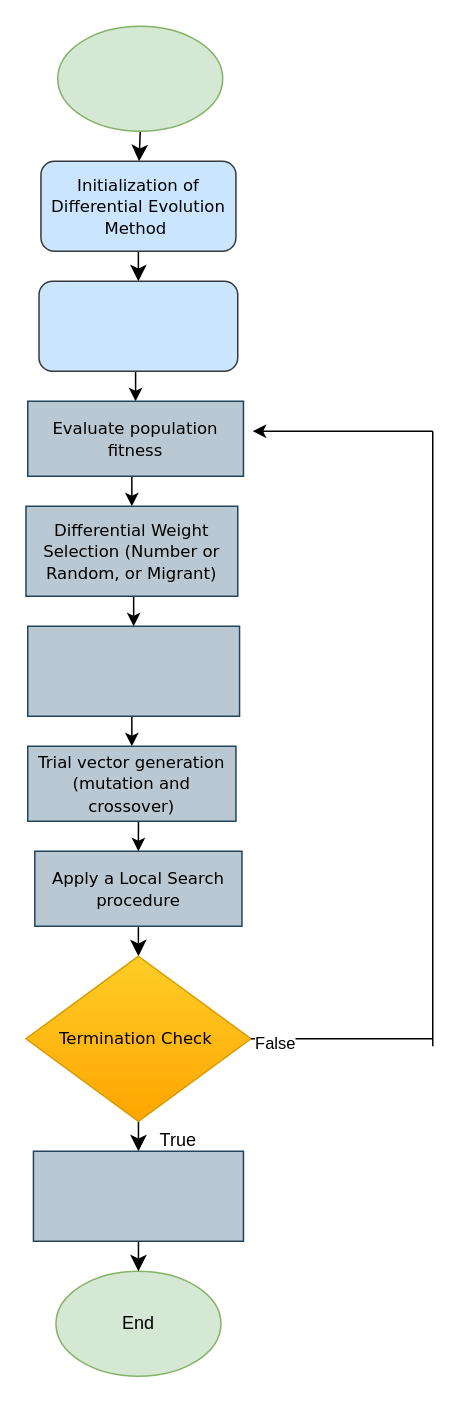
This 473x1403 diagram has some shape labels left out. Each missing label, with the centre of its shape:
Initial Distribution Selection (Uniform or k-means): the point at 138,325
Return best solution: the point at 137,1195
Selection (Tournament or Random): the point at 133,670
Start: the point at 139,78
